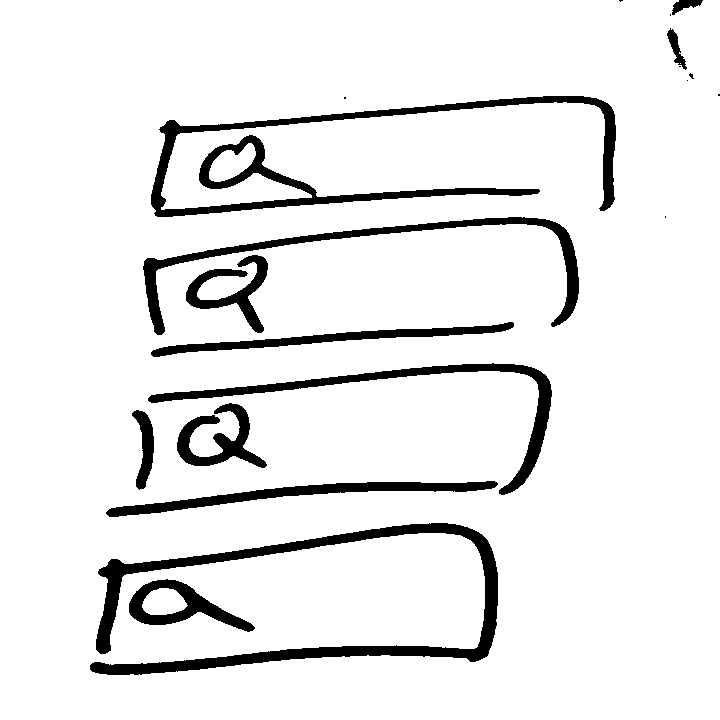search bar: (126, 214, 593, 360), (84, 522, 505, 679), (114, 362, 549, 509), (140, 90, 623, 218)
